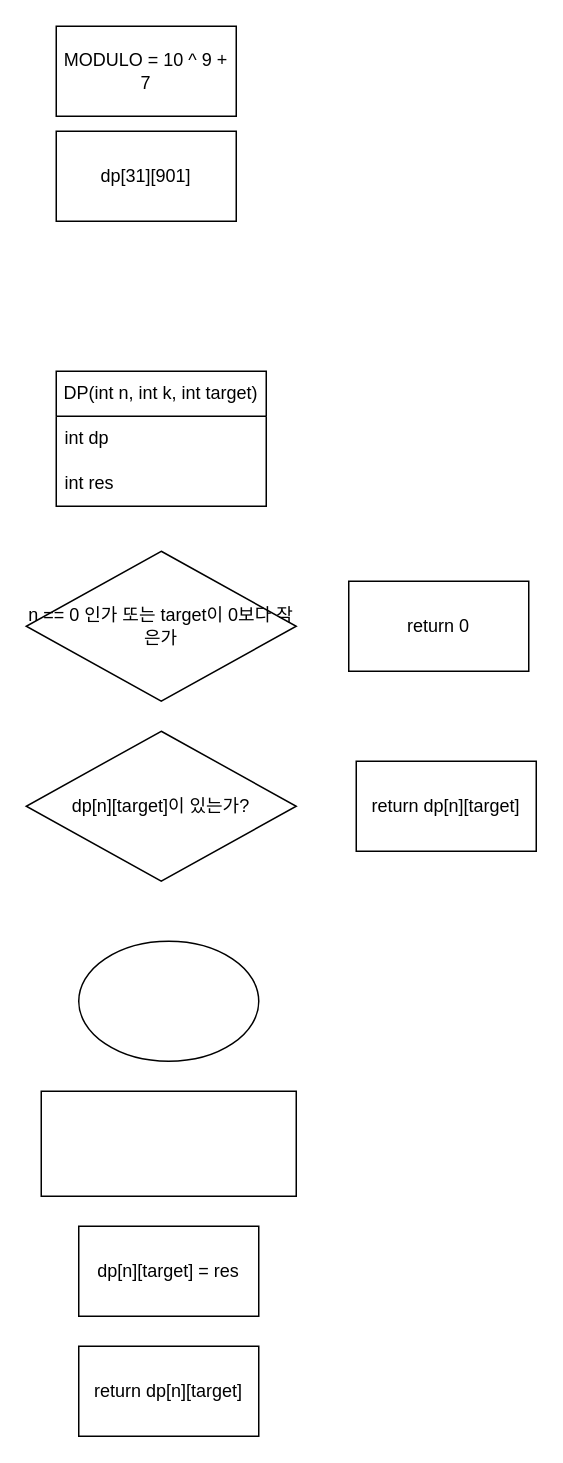
Image size: 563x1463. Some labels were removed from this diagram. The shapes that lost their labels are listed below. From the top down, each one's centre as x and y in pixels, then its label:
At point (168, 1000): "1부터 k까지 반복".
At point (168, 1143): "res += DP(n - 1, k, target - i)".
